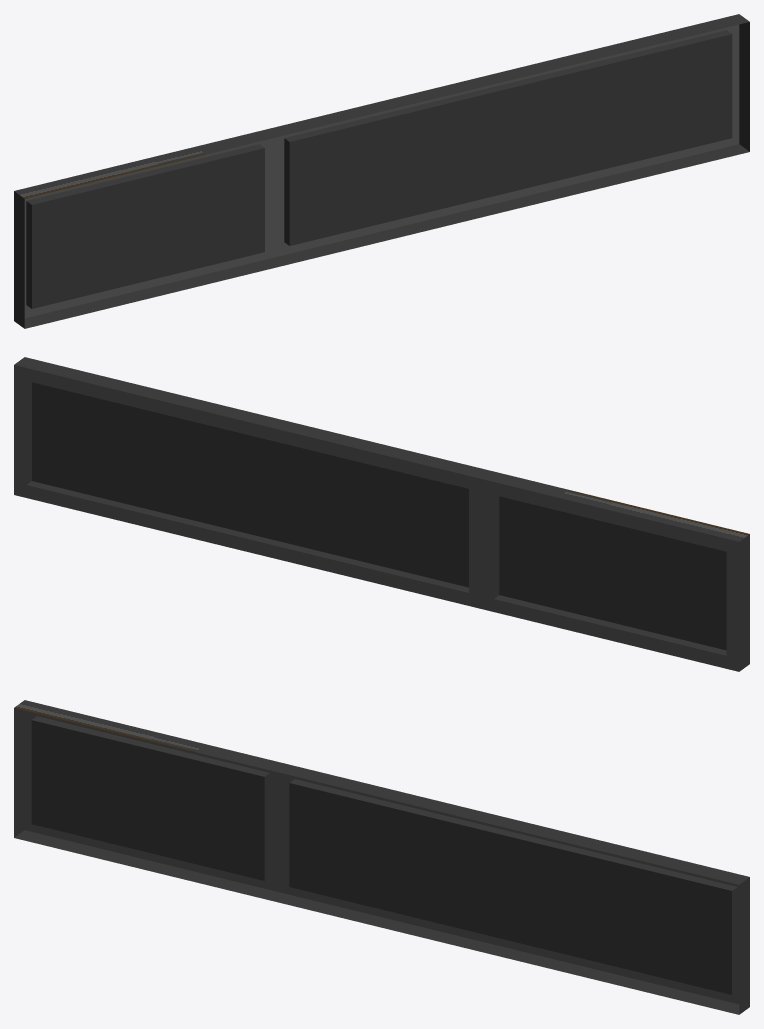
The model's file is table.fbx.
3 views of the same model, one above another, from view 1: azimuth 30°, elevation 25°; view 2: azimuth 150°, elevation 25°; view 3: azimuth 330°, elevation 25° (orthographic).
Parts seen in each view (by area): view 1: table; view 2: table; view 3: table.
Part boxes in pixels (bbox=[...]): table: bbox=[14, 14, 749, 328]; table: bbox=[14, 357, 749, 671]; table: bbox=[14, 700, 749, 1014].
Bounding box in the file's own units: 3.5 × 0.6 × 0.0898.
